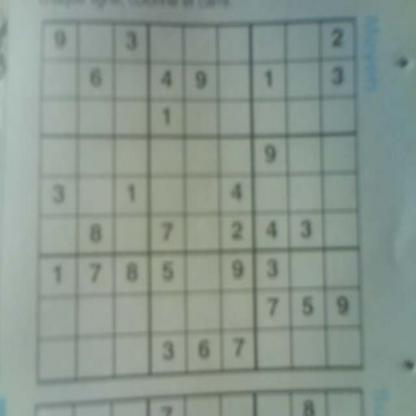sudoku: (32, 14, 368, 386)
